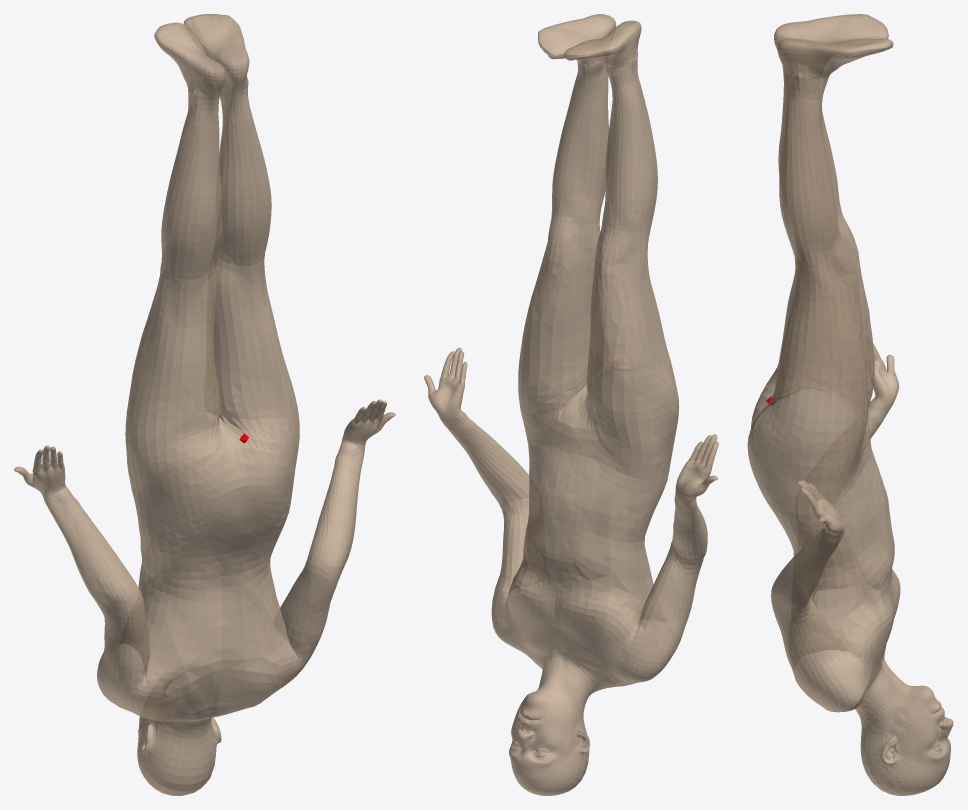
Rendered from body_s345_rings.obj.
3 renders of one model, left to right at view 1: azimuth 30°, elevation 25°; view 2: azimuth 150°, elevation 25°; view 3: azimuth 270°, elevation 25°, orthographic. The views are drawn at different scales.
Parts seen in each view (by area): view 1: Body; view 2: Body; view 3: Body.
Boxes of the visible parts, x1=… form: Body: x1=14, y1=14, x2=395, y2=795; Body: x1=424, y1=14, x2=718, y2=795; Body: x1=747, y1=14, x2=953, y2=795.
Size of the model in its own units: 0.8296 by 1.8 by 0.4412.
